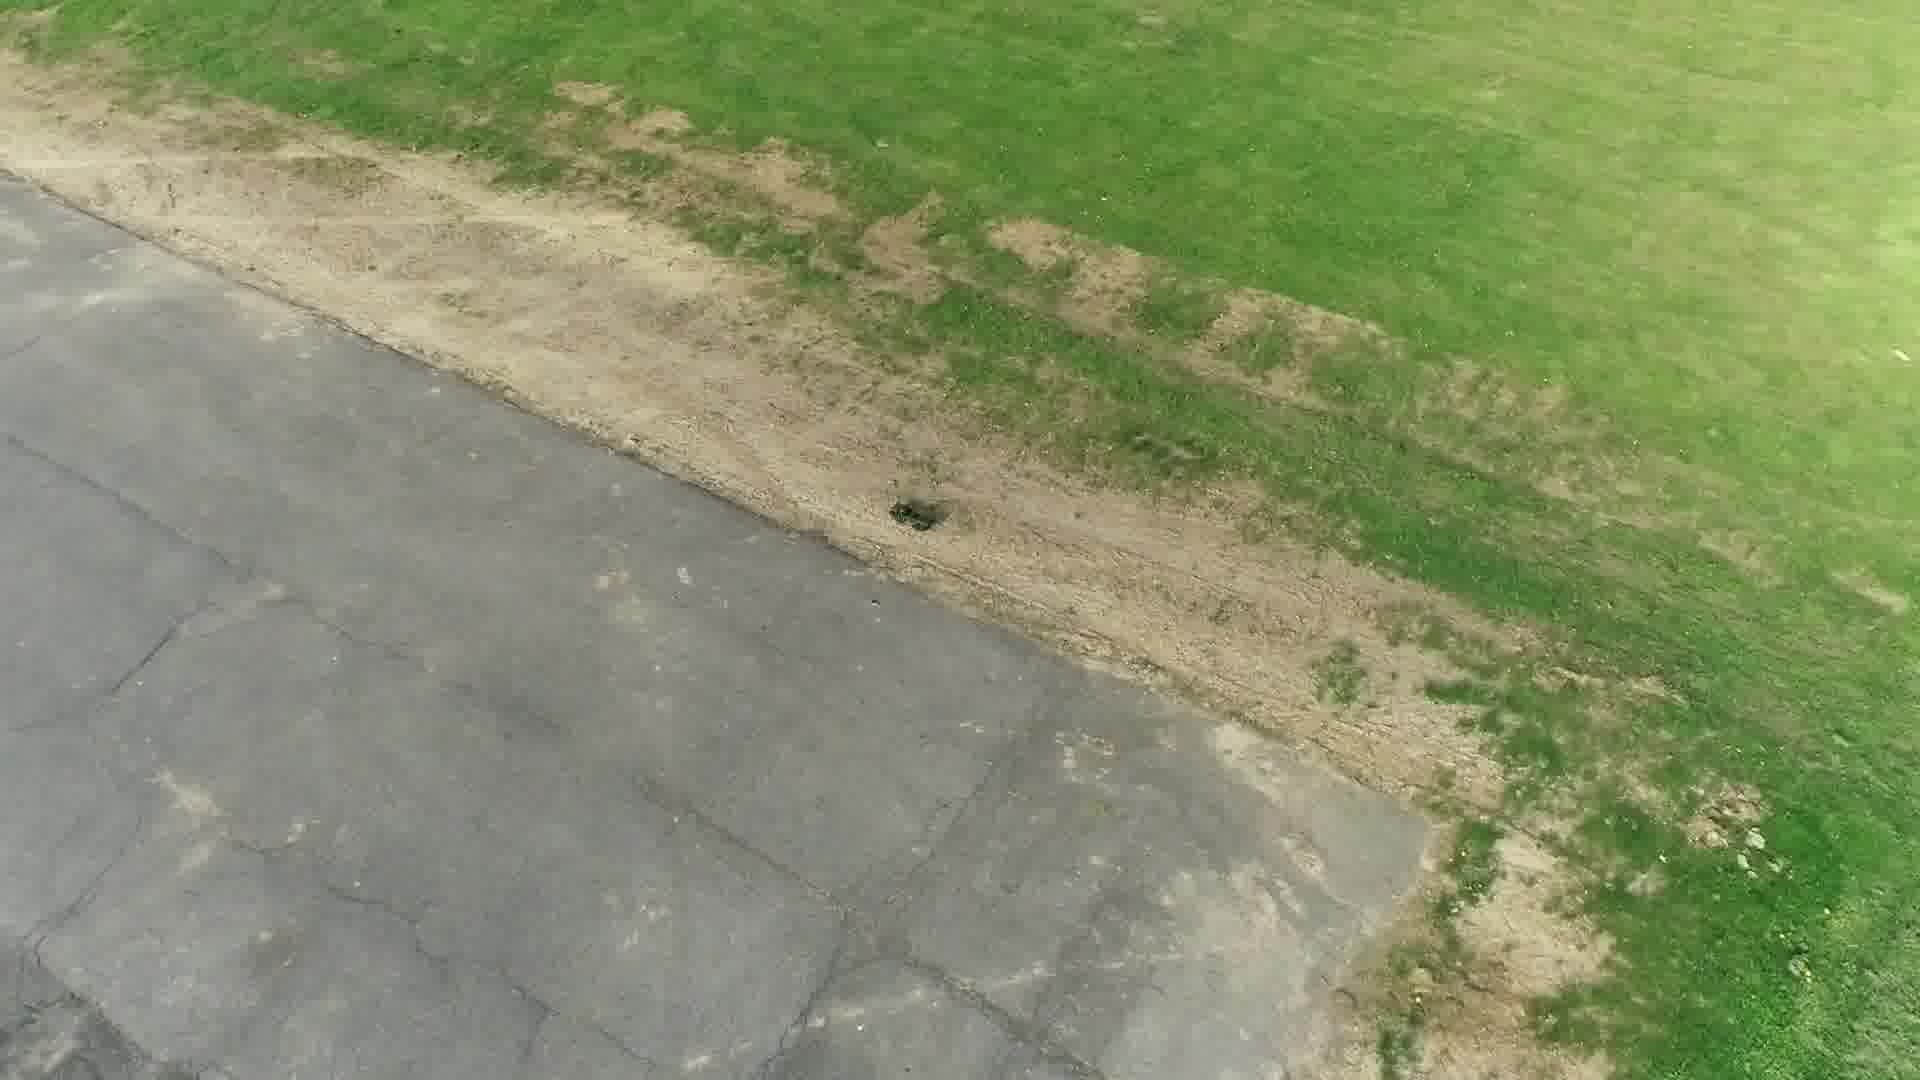transporter9: (886, 502, 938, 533)
